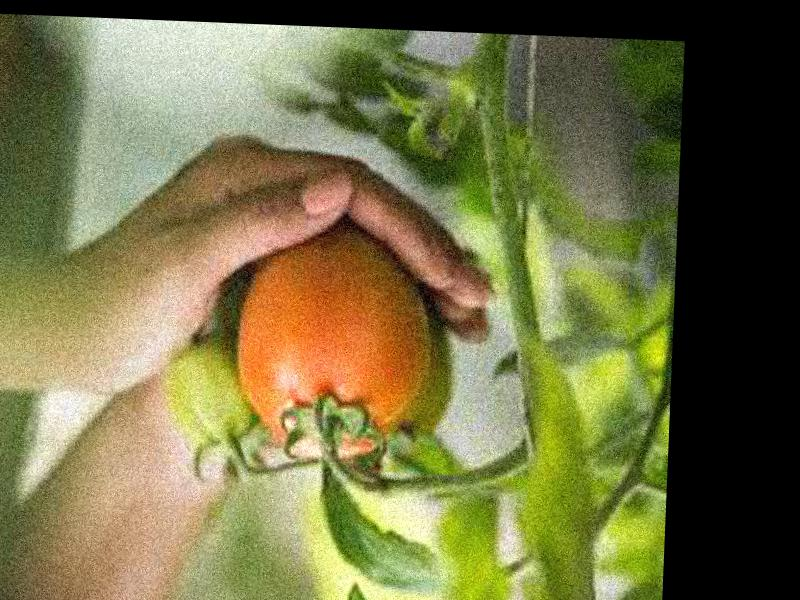Tomato: (233, 233, 431, 460)
